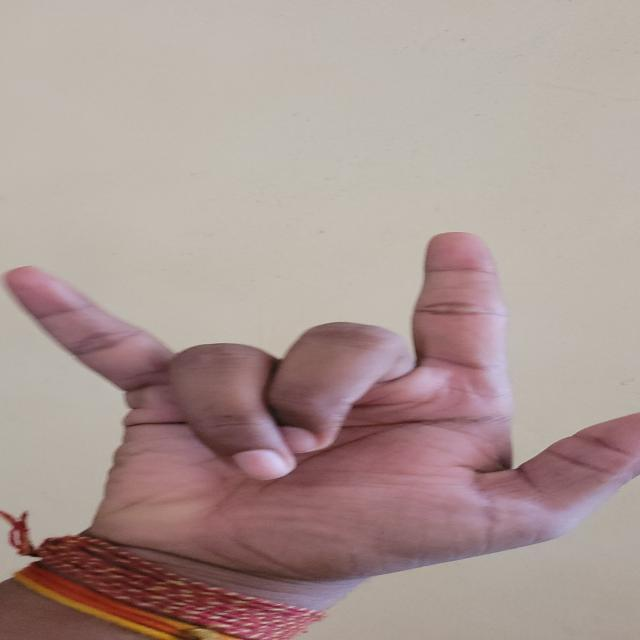i like you: (1, 225, 640, 606)
